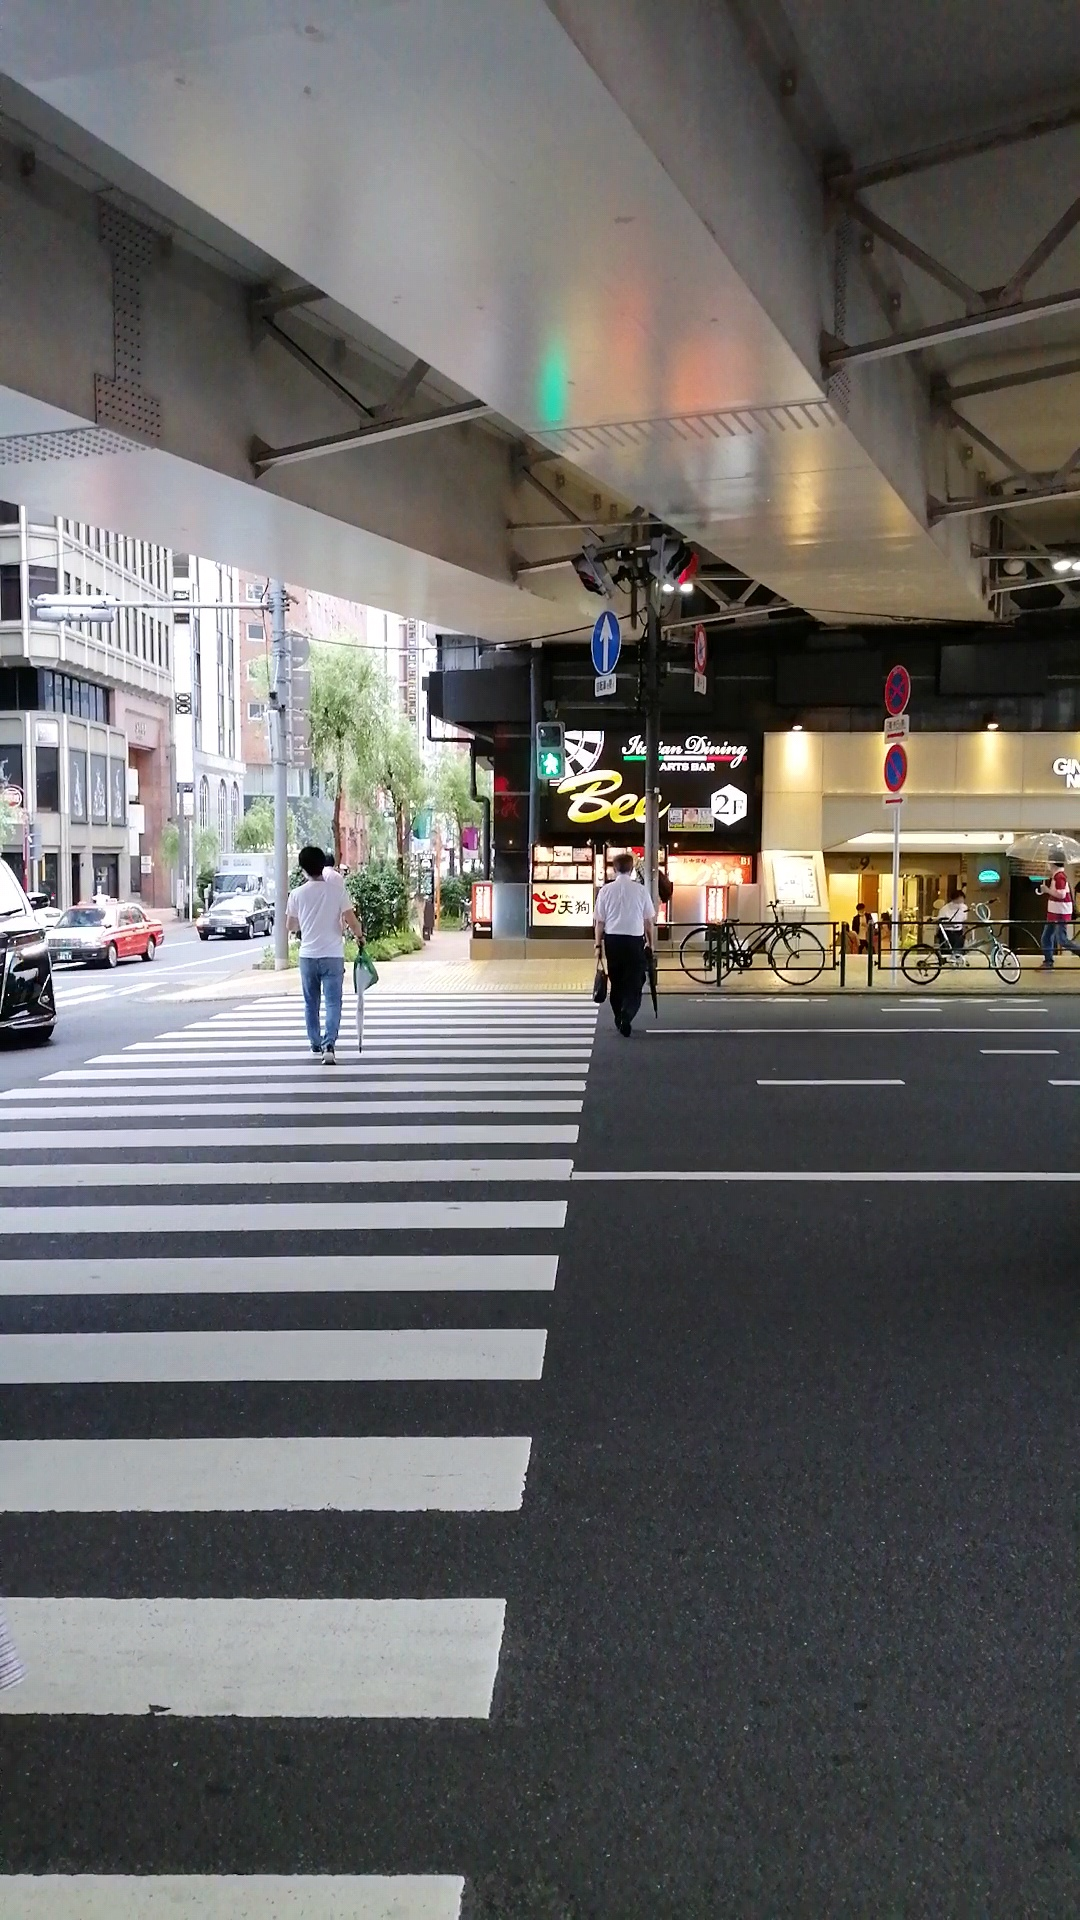green: (531, 720, 564, 779)
